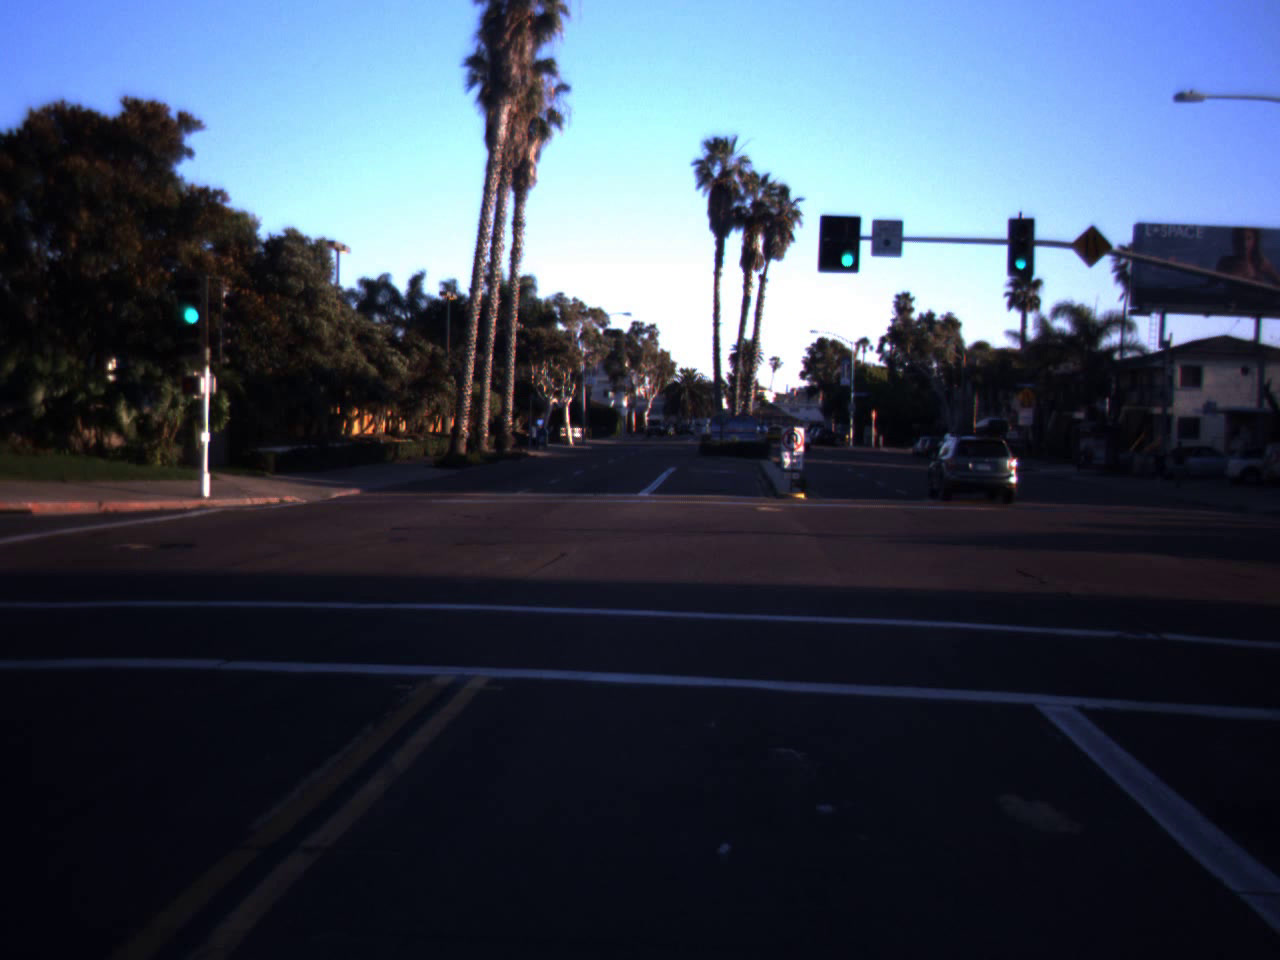go: (172, 260, 211, 330), (834, 212, 858, 272), (1007, 241, 1034, 271)
